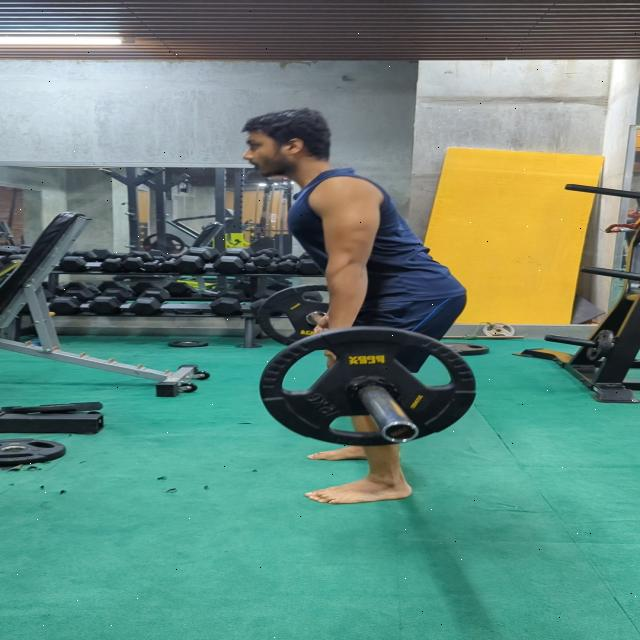Normal_Deadlifts: (241, 107, 470, 506)
